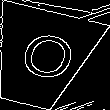O_S: (7, 28, 74, 89)
